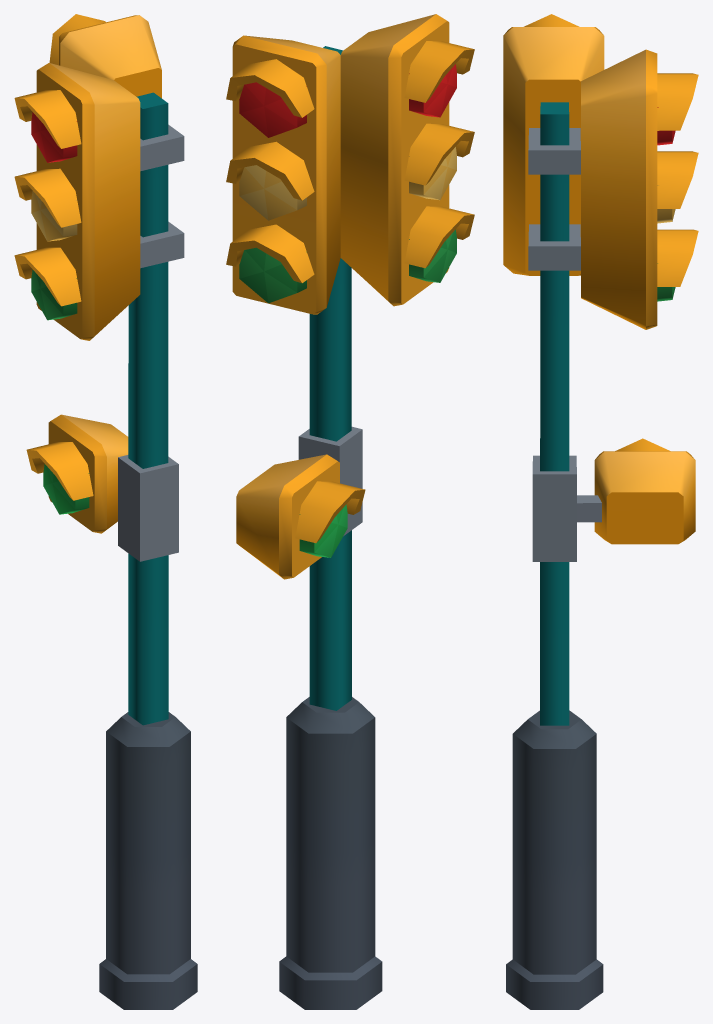
The model's file is Lights_3_C.fbx.
The picture shows the model from 3 angles, left to right: view 1: azimuth 30°, elevation 25°; view 2: azimuth 150°, elevation 25°; view 3: azimuth 270°, elevation 25°; orthographic projection. The views are drawn at different scales.
Parts seen in each view (by area): view 1: Lights_3_C; view 2: Lights_3_C; view 3: Lights_3_C.
Part boxes in pixels (left/top/right/bottom): Lights_3_C: left=14, top=14, right=197, bottom=1009; Lights_3_C: left=226, top=14, right=474, bottom=1009; Lights_3_C: left=503, top=14, right=698, bottom=1009.
Size of the model in its own units: 64.29 by 334 by 63.92.
